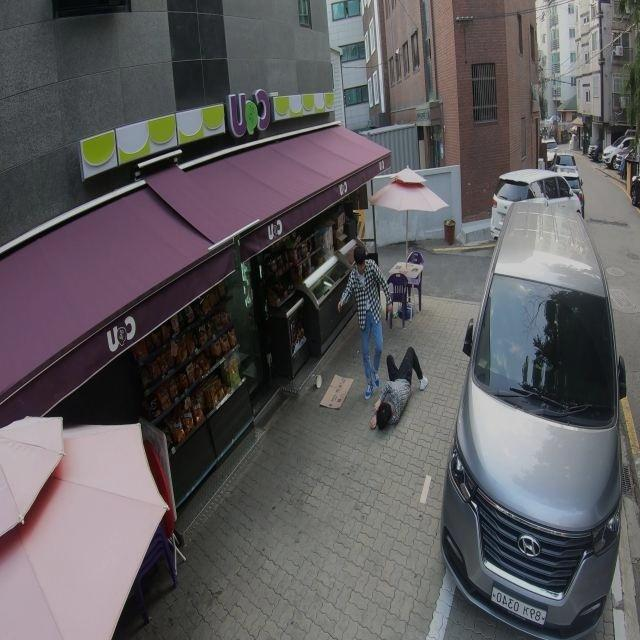fight: (335, 238, 428, 431)
